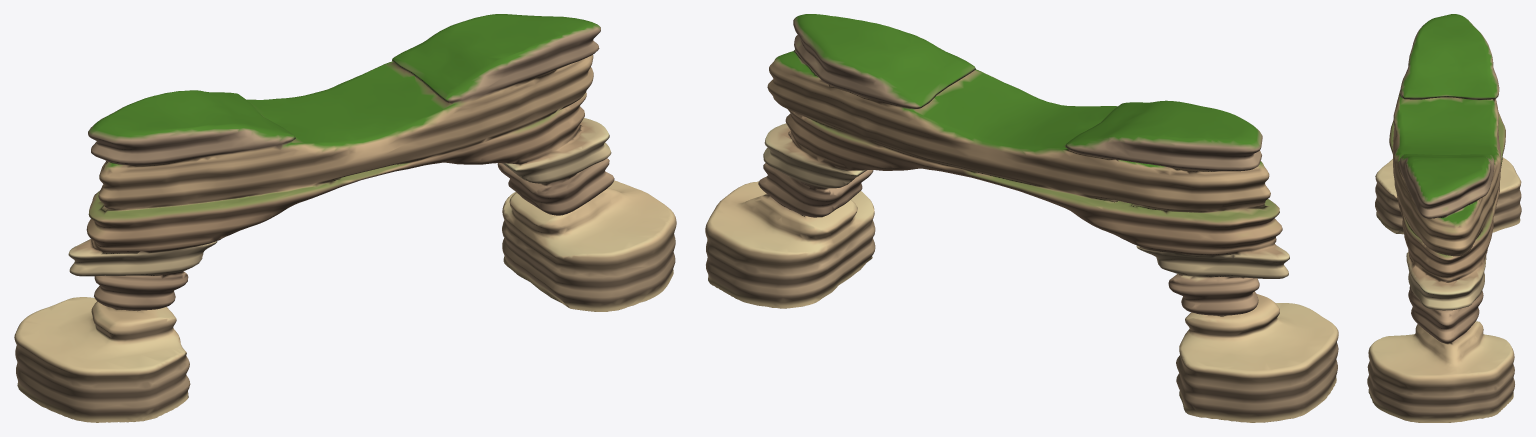
File: rock_arch.glb
3 views of the same model, side by side, from view 1: azimuth 30°, elevation 25°; view 2: azimuth 150°, elevation 25°; view 3: azimuth 270°, elevation 25° (orthographic). The views are drawn at different scales.
Visible parts, largest first — view 1: rock_arch_mesh; view 2: rock_arch_mesh; view 3: rock_arch_mesh.
Boxes of the visible parts, x1=… form: rock_arch_mesh: x1=14, y1=14, x2=676, y2=422; rock_arch_mesh: x1=705, y1=14, x2=1338, y2=422; rock_arch_mesh: x1=1367, y1=14, x2=1521, y2=422.
Bounding box in the file's own units: 37.5 × 14.91 × 10.35.
